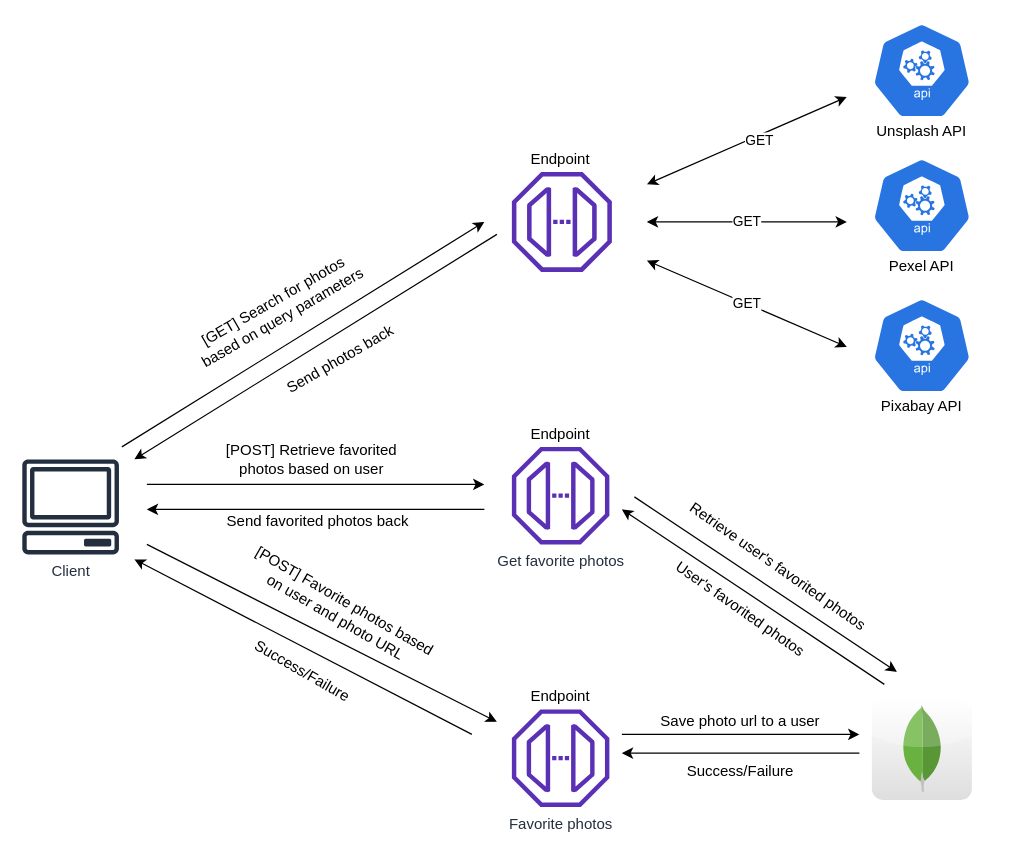
This 1015x855 diagram has some shape labels left out. Here are the shapes that lost their labels. From the top down, the centre of each, then its label:
At [561,221]: "Search photos from multiple public APIs".
At [921,748]: "User Photo Database".
